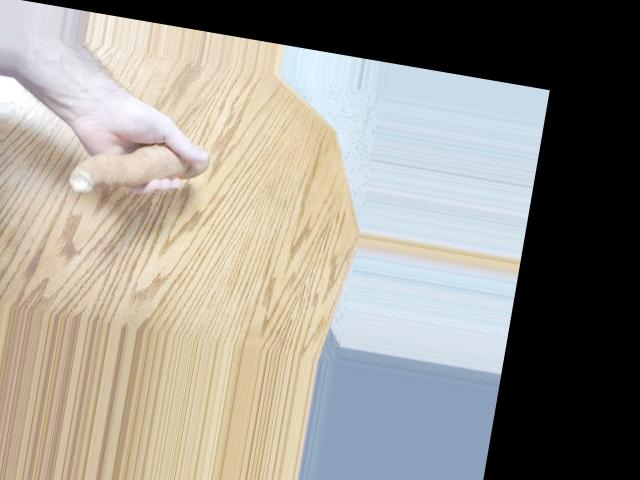sweet_potato: (59, 129, 217, 211)
